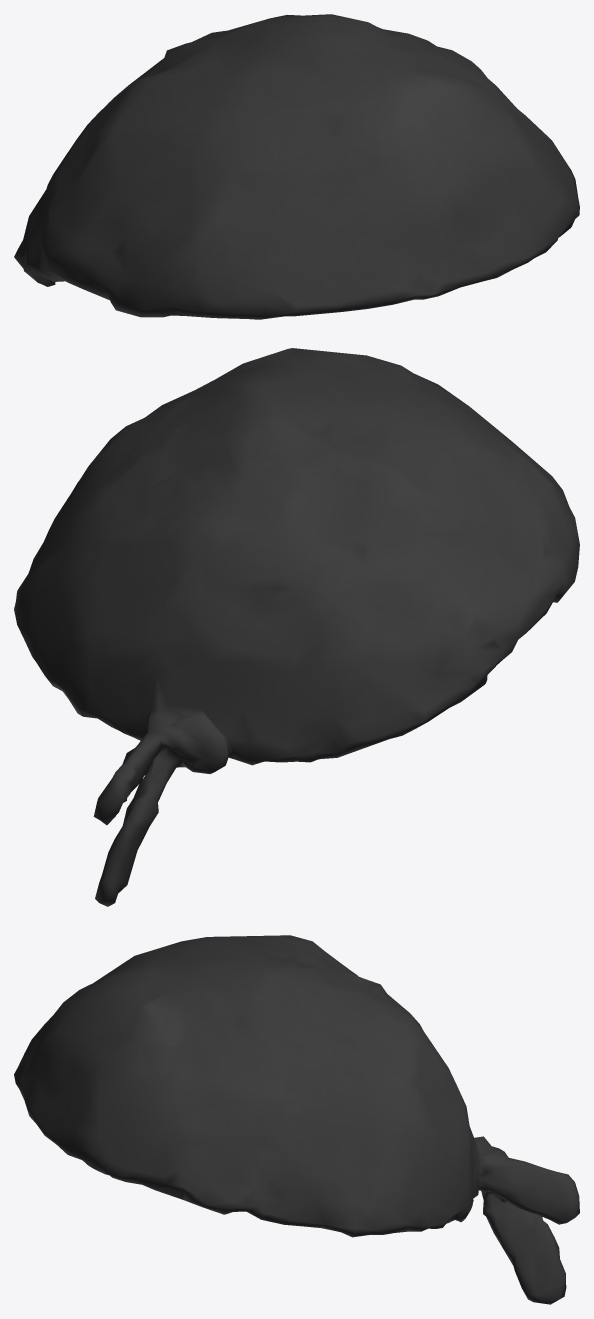
The model's file is bandana dark gray.glb.
The picture shows the model from 3 angles, top to bottom: view 1: azimuth 30°, elevation 25°; view 2: azimuth 150°, elevation 25°; view 3: azimuth 270°, elevation 25°; orthographic projection. The views are drawn at different scales.
Visible parts, largest first — view 1: hat_bandana_dark_gray.001; view 2: hat_bandana_dark_gray.001; view 3: hat_bandana_dark_gray.001.
Boxes of the visible parts, left/top/right/bottom form: hat_bandana_dark_gray.001: left=14, top=14, right=579, bottom=319; hat_bandana_dark_gray.001: left=14, top=348, right=579, bottom=906; hat_bandana_dark_gray.001: left=14, top=935, right=579, bottom=1304.
Size of the model in its own units: 0.3425 by 0.2768 by 0.4166.
1 material, 1 textured.
